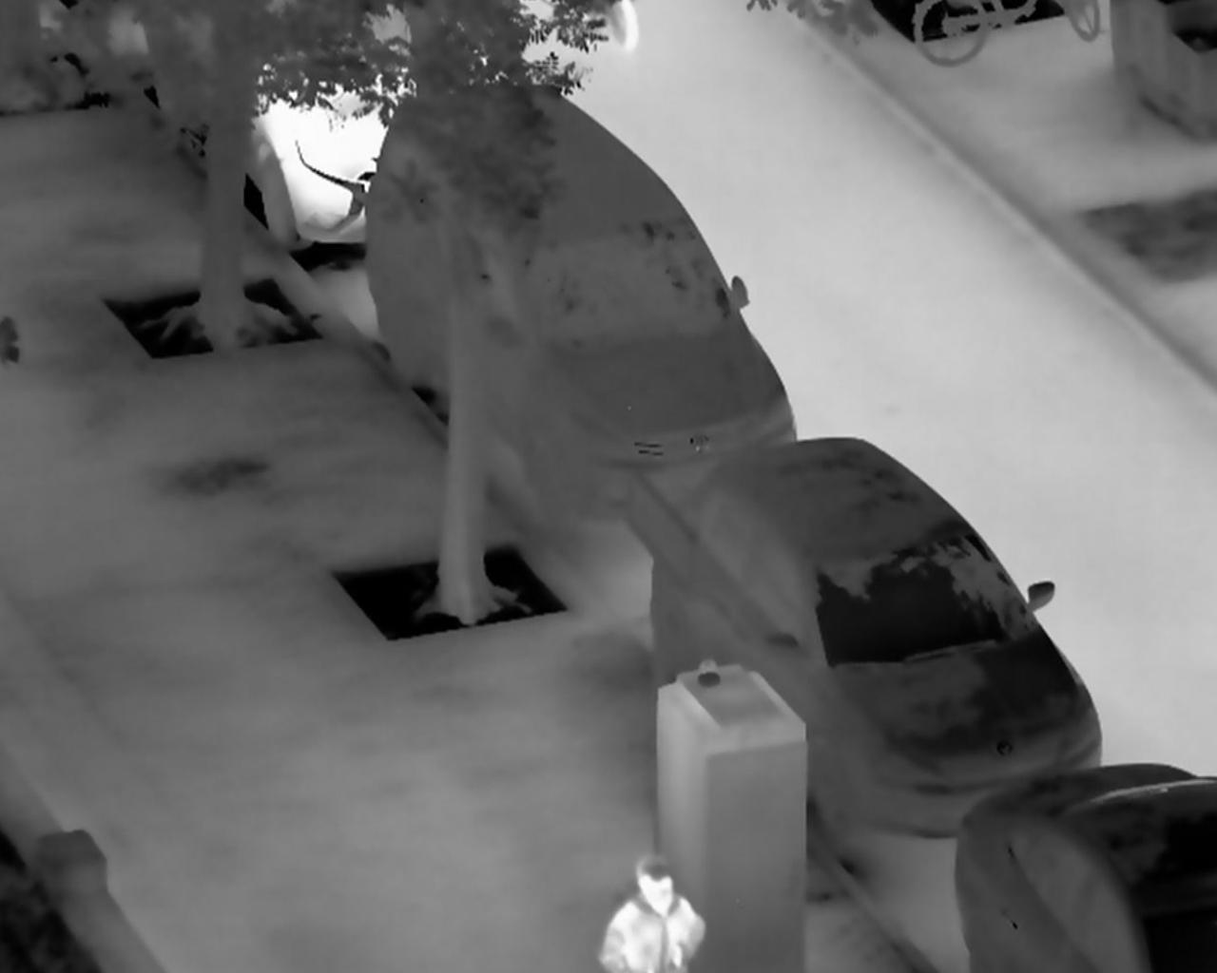person: (595, 851, 706, 973)
